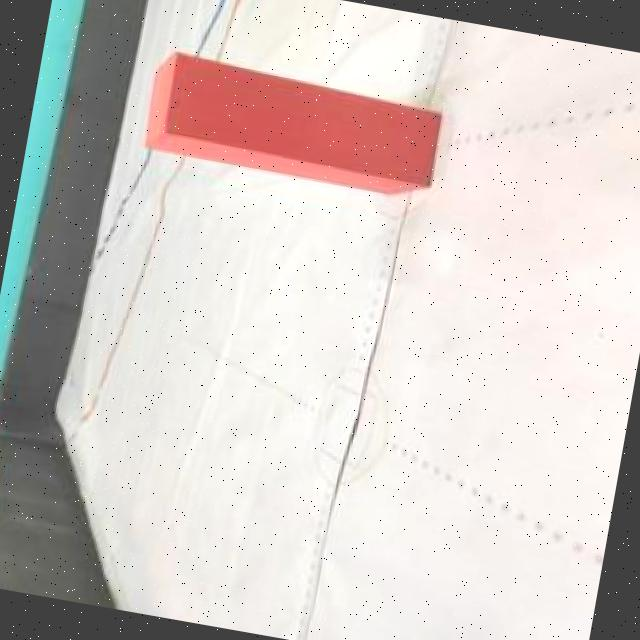redbox: (135, 45, 443, 198)
